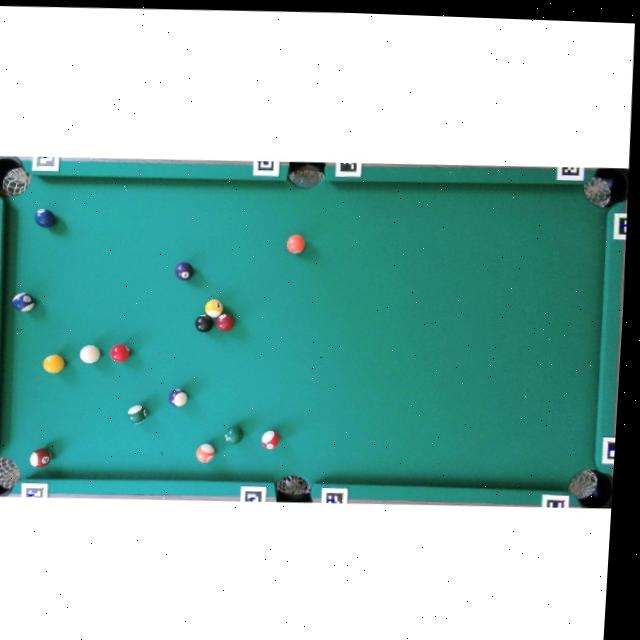cue ball: (78, 344, 100, 363)
other: (33, 207, 56, 228), (126, 403, 147, 424), (42, 353, 64, 373), (29, 448, 52, 467), (12, 293, 35, 312), (109, 342, 130, 362), (195, 442, 215, 463), (285, 233, 305, 254), (214, 312, 235, 331), (204, 298, 223, 318), (168, 388, 187, 407), (261, 430, 280, 449), (175, 261, 194, 280), (194, 313, 213, 332), (224, 425, 243, 444)
